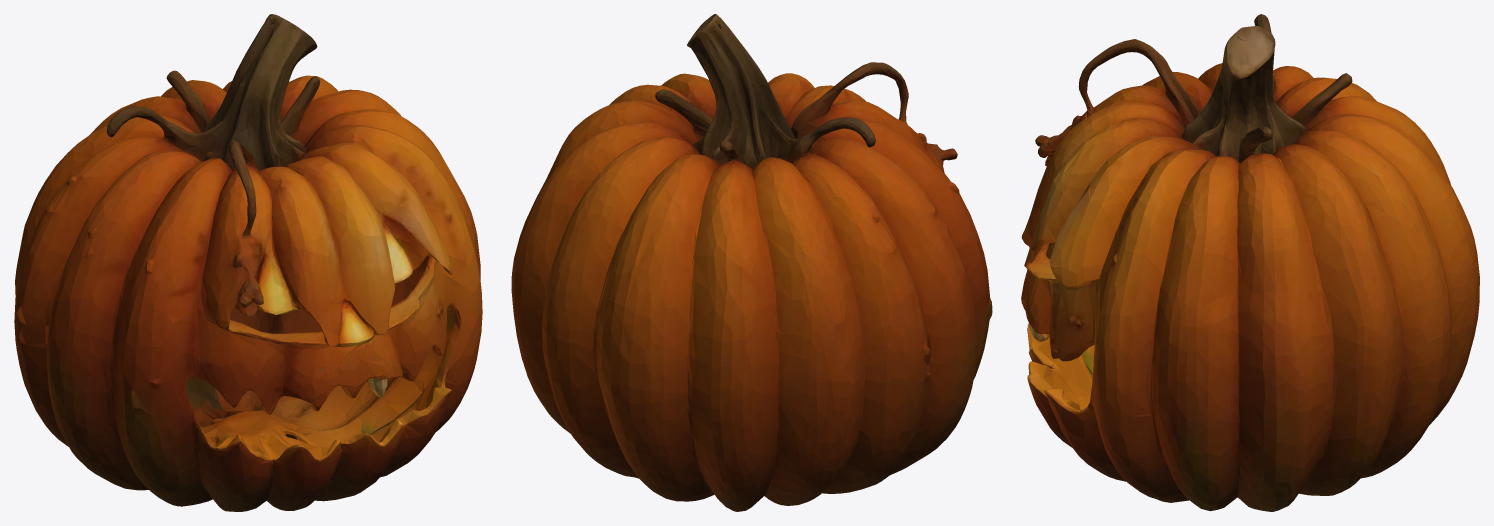
Rendered from pumpkin_jackolantern_vines.glb.
The picture shows the model from 3 angles, left to right: view 1: azimuth 30°, elevation 25°; view 2: azimuth 150°, elevation 25°; view 3: azimuth 270°, elevation 25°; orthographic projection. The views are drawn at different scales.
Parts seen in each view (by area): view 1: geometry_0; view 2: geometry_0; view 3: geometry_0.
Part boxes in pixels (x1,y1,x2,y2): geometry_0: (14,14,482,511); geometry_0: (511,14,992,511); geometry_0: (1021,14,1479,511).
Bounding box in the file's own units: 0.9968 × 0.9981 × 0.9223.
Materials: 1 (1 with a texture image).
